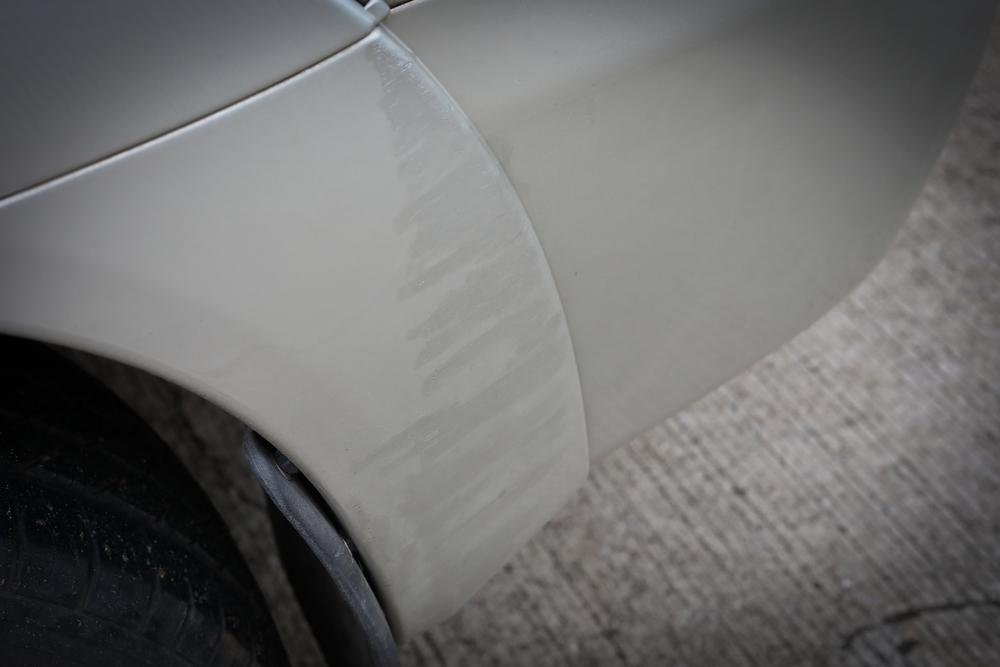scratch: (327, 27, 590, 634)
